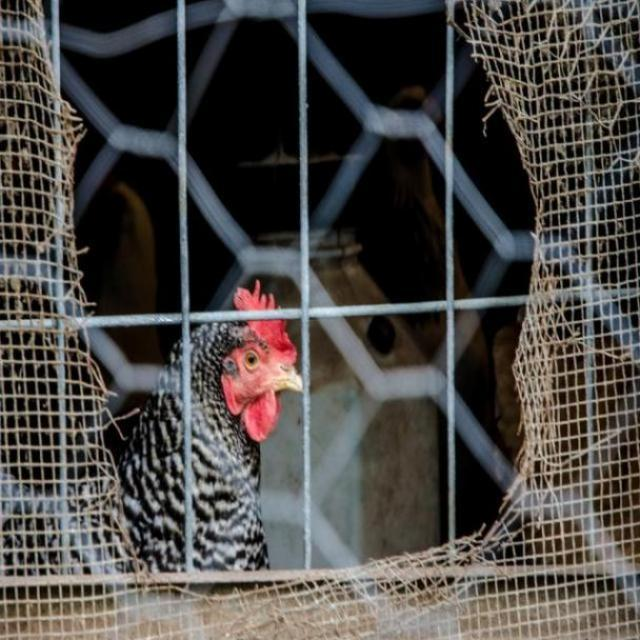Chicken: (100, 279, 311, 621)
